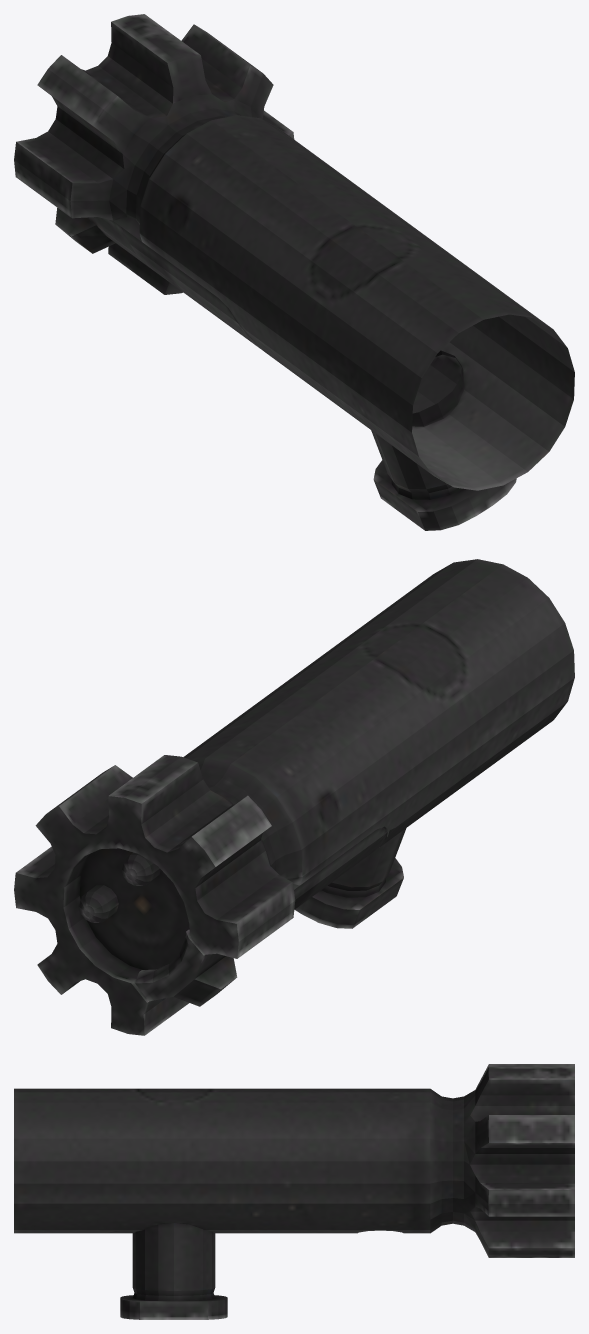
3 renders of one model, top to bottom at view 1: azimuth 30°, elevation 25°; view 2: azimuth 150°, elevation 25°; view 3: azimuth 270°, elevation 25°, orthographic. The views are drawn at different scales.
Visible parts, largest first — view 1: TW_65290f395ae2ae97b80fdf2d_PZ_Import; view 2: TW_65290f395ae2ae97b80fdf2d_PZ_Import; view 3: TW_65290f395ae2ae97b80fdf2d_PZ_Import.
Boxes of the visible parts, <box> form: TW_65290f395ae2ae97b80fdf2d_PZ_Import: <box>14,14,574,530</box>; TW_65290f395ae2ae97b80fdf2d_PZ_Import: <box>14,559,574,1035</box>; TW_65290f395ae2ae97b80fdf2d_PZ_Import: <box>14,1064,574,1319</box>.
Size of the model in its own units: 0.0123 by 0.0347 by 0.0162.
1 material, 1 textured.
